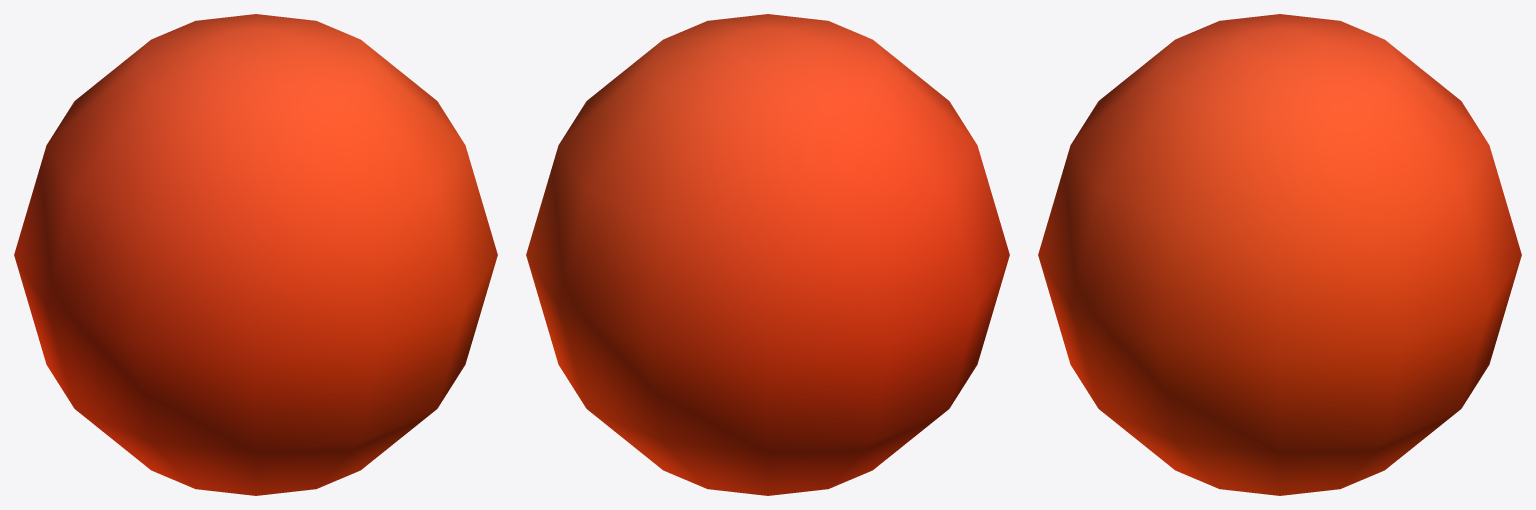
The model's file is Volleyball_A.fbx.
3 views of the same model, side by side, from view 1: azimuth 30°, elevation 25°; view 2: azimuth 150°, elevation 25°; view 3: azimuth 270°, elevation 25° (orthographic).
Visible parts, largest first — view 1: Volleyball_A; view 2: Volleyball_A; view 3: Volleyball_A.
Part boxes in pixels (left/top/right/bottom): Volleyball_A: left=14, top=14, right=497, bottom=495; Volleyball_A: left=526, top=14, right=1009, bottom=495; Volleyball_A: left=1038, top=14, right=1521, bottom=495.
Size of the model in its own units: 33.6 by 32.1 by 33.6.
